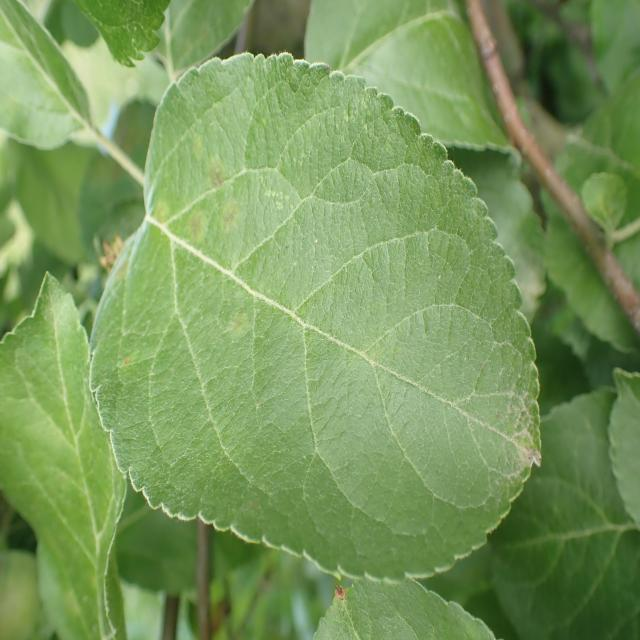scab: (104, 104, 402, 516)
